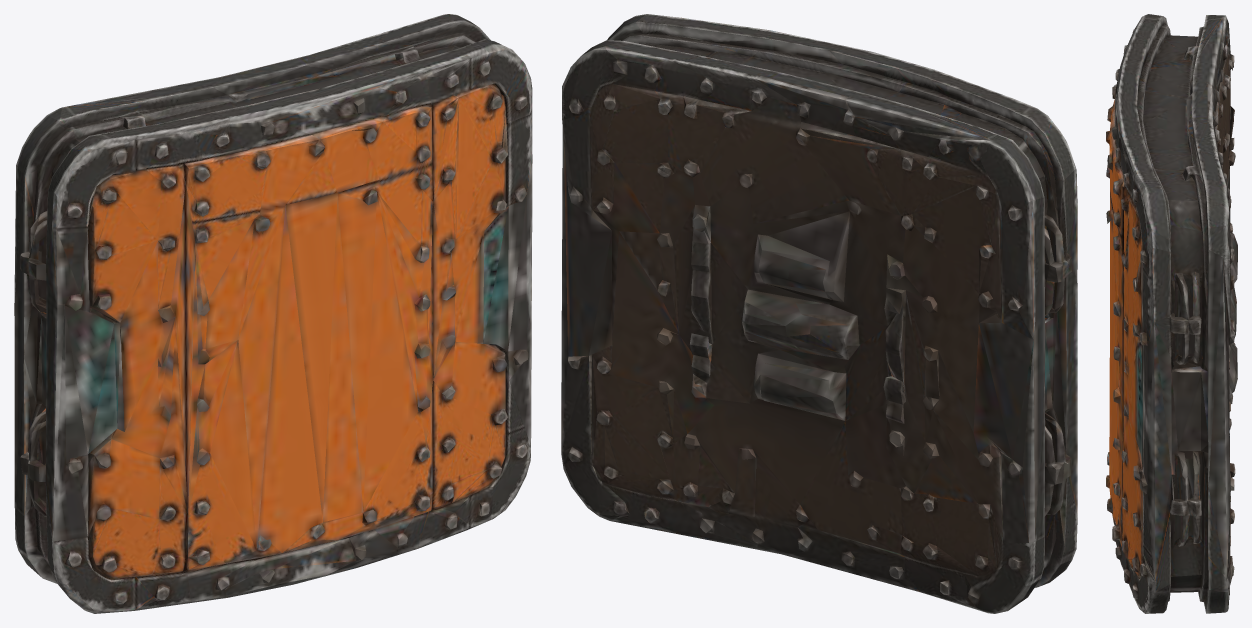
Rendered from plate.glb.
The picture shows the model from 3 angles, left to right: view 1: azimuth 30°, elevation 25°; view 2: azimuth 150°, elevation 25°; view 3: azimuth 270°, elevation 25°; orthographic projection. The views are drawn at different scales.
Visible parts, largest first — view 1: Mesh_0; view 2: Mesh_0; view 3: Mesh_0.
Part boxes in pixels (left/top/right/bottom): Mesh_0: left=14, top=14, right=532, bottom=613; Mesh_0: left=561, top=14, right=1077, bottom=613; Mesh_0: left=1106, top=14, right=1237, bottom=613.
Bounding box in the file's own units: 0.5389 × 0.5 × 0.1383.
1 material, 1 textured.
